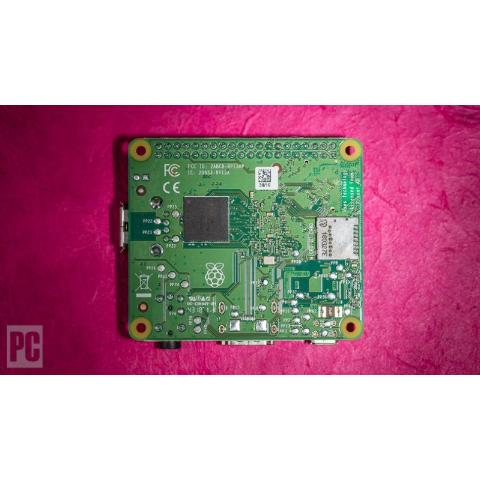Raspberry-Pi-3-Model-A-: (113, 129, 369, 355)
